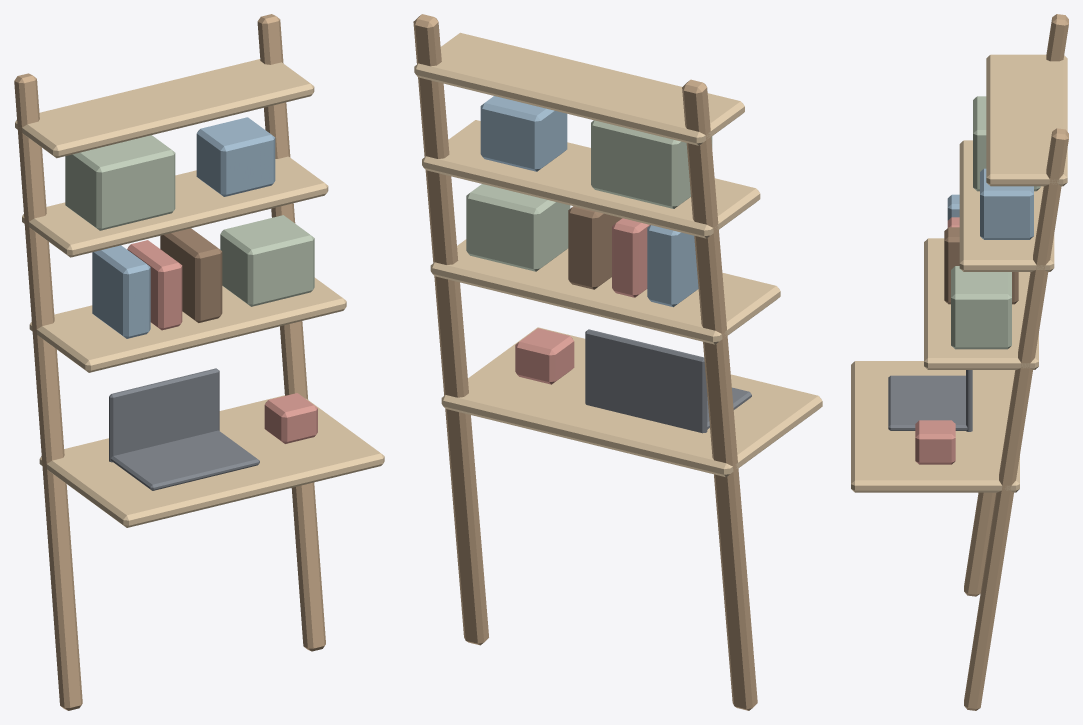
Rendered from LadderShelf.glb.
3 views of the same model, side by side, from view 1: azimuth 30°, elevation 25°; view 2: azimuth 150°, elevation 25°; view 3: azimuth 270°, elevation 25° (orthographic). The views are drawn at different scales.
Parts seen in each view (by area): view 1: LadderShelf_Body; view 2: LadderShelf_Body; view 3: LadderShelf_Body.
Part boxes in pixels (x1,y1,x2,y2): LadderShelf_Body: [14, 14, 384, 710]; LadderShelf_Body: [413, 14, 822, 710]; LadderShelf_Body: [851, 14, 1068, 710].
Bounding box in the file's own units: 0.86 × 1.89 × 0.6448.
